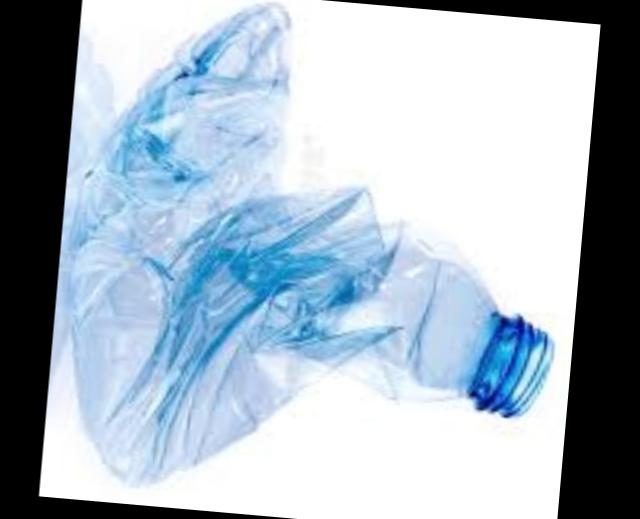plastic: (78, 7, 557, 485)
